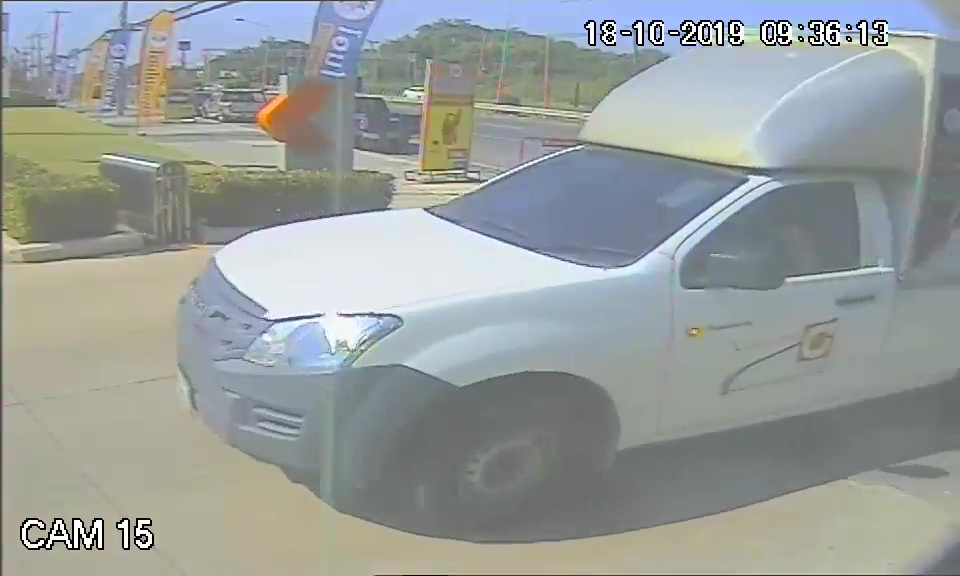pickup: (172, 133, 960, 515)
